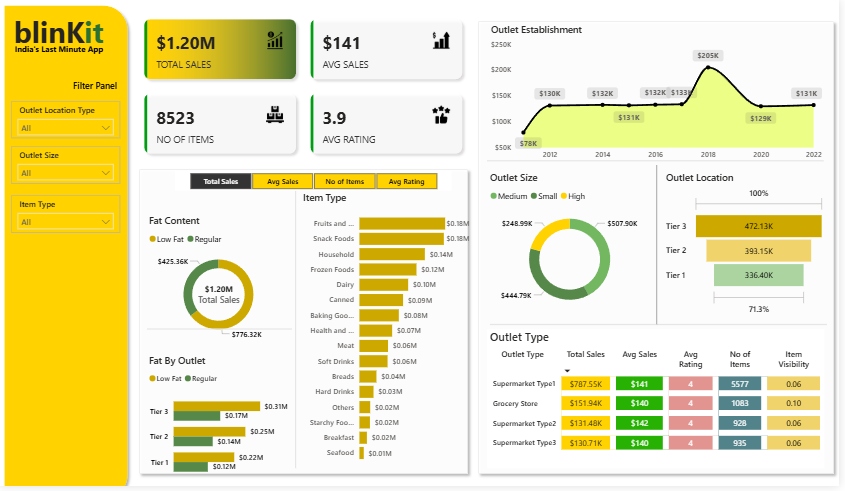

Layout of this report page (visuals, bound fields, positions):
{"tool":"powerbi","page":{"name":"Page 1","canvas":[1400,810],"ordinal":0},"visuals":[{"type":"shape","box":[0,0,223.3,841.7],"z":0},{"type":"textbox","box":[19.5,15,169,77],"z":1000},{"type":"textbox","box":[12,68.5,176.5,29.5],"z":2000},{"type":"cardVisual","fields":{"Data":["BlinkIT Grocery Data.Total Sales","BlinkIT Grocery Data.Avg Sales","BlinkIT Grocery Data.No of Items","BlinkIT Grocery Data.Avg Rating"]},"box":[225,15,565,258.3],"z":3000},{"type":"shape","box":[225,273.3,565,525],"z":4000},{"type":"donutChart","title":" Fat Content","fields":{"Y":["BlinkIT Grocery Data.Total Sales"],"Category":["BlinkIT Grocery Data.Item Fat Content"]},"box":[245.7,357.1,241.4,218.6],"z":5000},{"type":"slicer","fields":{"Values":["Metrics.Metrics"]},"box":[292.5,285,460.8,32.5],"z":6000},{"type":"cardVisual","fields":{"Data":["BlinkIT Grocery Data.Total Sales"]},"box":[300,446.7,133.3,88.3],"z":7000},{"type":"clusteredBarChart","title":"Fat By Outlet ","fields":{"Y":["BlinkIT Grocery Data.Total Sales"],"Category":["BlinkIT Grocery Data.Outlet Location Type"],"Series":["BlinkIT Grocery Data.Item Fat Content"]},"box":[245.7,590,241.4,220],"z":8000},{"type":"shape","box":[246.7,536.7,241.7,23.3],"z":9000},{"type":"shape","box":[489,318,12,462],"z":10000},{"type":"barChart","title":"Item Type","fields":{"Y":["BlinkIT Grocery Data.Total Sales"],"Category":["BlinkIT Grocery Data.Item Type"]},"box":[501.1,317.8,287.8,462.2],"z":11000},{"type":"shape","box":[790,26.7,610,771.7],"z":12000},{"type":"lineChart","title":"Outlet Establishment ","fields":{"Category":["BlinkIT Grocery Data.Outlet Establishment Year"],"Y":["BlinkIT Grocery Data.Total Sales"]},"box":[815,38.3,561.7,236.7],"z":13000},{"type":"shape","box":[818.3,535,561.7,11.7],"z":14000},{"type":"donutChart","title":"Outlet Size","fields":{"Y":["BlinkIT Grocery Data.Total Sales"],"Category":["BlinkIT Grocery Data.Outlet Size"]},"box":[813.3,285.6,275.6,244.4],"z":15000},{"type":"funnel","title":"Outlet Location","fields":{"Category":["BlinkIT Grocery Data.Outlet Location Type"],"Y":["Sum(BlinkIT Grocery Data.Sales)"]},"box":[1106.7,285.6,274.4,244.4],"z":16000},{"type":"shape","box":[813.8,261.2,561.2,12.5],"z":17000},{"type":"pivotTable","title":"Outlet Type","fields":{"Rows":["BlinkIT Grocery Data.Outlet Type"],"Values":["BlinkIT Grocery Data.Total Sales","BlinkIT Grocery Data.Avg Sales","BlinkIT Grocery Data.Avg Rating","BlinkIT Grocery Data.No of Items","Avg(BlinkIT Grocery Data.Item Visibility)"]},"box":[813.3,548.3,561.7,231.7],"z":18000},{"type":"shape","box":[1090,275.6,12.2,265.6],"z":19000},{"type":"slicer","fields":{"Values":["BlinkIT Grocery Data.Outlet Location Type"]},"box":[20,168.3,181.7,61.7],"z":20000},{"type":"slicer","fields":{"Values":["BlinkIT Grocery Data.Outlet Size"]},"box":[20,243.3,181.7,63.3],"z":21000},{"type":"slicer","fields":{"Values":["BlinkIT Grocery Data.Item Type"]},"box":[20,325,181.7,63.3],"z":22000},{"type":"textbox","box":[111.7,126.7,90,30],"z":23000}]}

Visuals, with their boxes in screenshot pixels (x1, y1, x2, y2), scaled from the page's 1400x810 canvas onto the 845x491 screenshot:
shape: Rect(0, 0, 135, 490)
textbox: Rect(12, 9, 114, 56)
textbox: Rect(7, 42, 114, 59)
cardVisual - BlinkIT Grocery Data.Total Sales x BlinkIT Grocery Data.Avg Sales: Rect(136, 9, 477, 166)
shape: Rect(136, 166, 477, 484)
" Fat Content" donutChart: Rect(148, 216, 294, 349)
slicer - Metrics.Metrics: Rect(177, 173, 455, 192)
cardVisual - BlinkIT Grocery Data.Total Sales: Rect(181, 271, 262, 324)
"Fat By Outlet " clusteredBarChart: Rect(148, 358, 294, 490)
shape: Rect(149, 325, 295, 339)
shape: Rect(295, 193, 302, 473)
"Item Type" barChart: Rect(302, 193, 476, 473)
shape: Rect(477, 16, 844, 484)
"Outlet Establishment " lineChart: Rect(492, 23, 831, 167)
shape: Rect(494, 324, 833, 331)
"Outlet Size" donutChart: Rect(491, 173, 657, 321)
"Outlet Location" funnel: Rect(668, 173, 834, 321)
shape: Rect(491, 158, 830, 166)
"Outlet Type" pivotTable: Rect(491, 332, 830, 473)
shape: Rect(658, 167, 665, 328)
slicer - BlinkIT Grocery Data.Outlet Location Type: Rect(12, 102, 122, 139)
slicer - BlinkIT Grocery Data.Outlet Size: Rect(12, 147, 122, 186)
slicer - BlinkIT Grocery Data.Item Type: Rect(12, 197, 122, 235)
textbox: Rect(67, 77, 122, 95)
